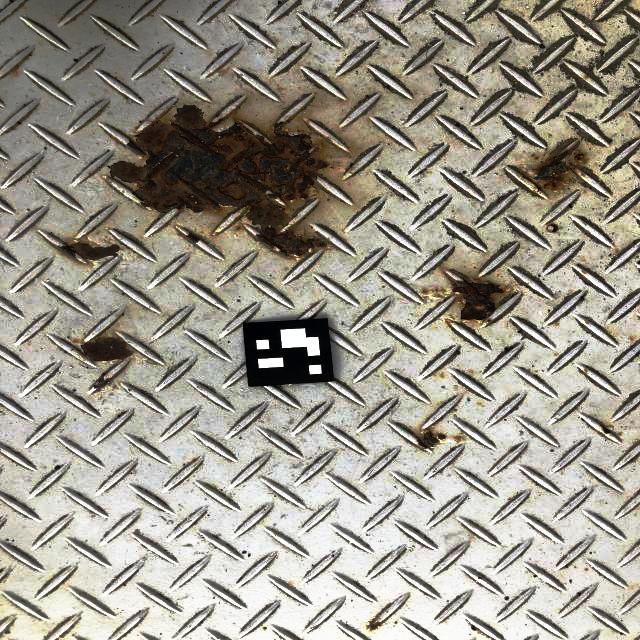Corrosion: (106, 104, 343, 260), (517, 146, 588, 195), (445, 273, 512, 324), (51, 236, 122, 264), (76, 334, 137, 364), (415, 426, 448, 450), (175, 227, 201, 243), (92, 376, 113, 390), (422, 288, 447, 298), (368, 620, 387, 630), (599, 424, 611, 435), (546, 223, 559, 233), (445, 315, 455, 326), (454, 435, 464, 443), (349, 162, 356, 171), (211, 230, 221, 236), (235, 226, 243, 231), (192, 459, 198, 463), (478, 577, 482, 580)
